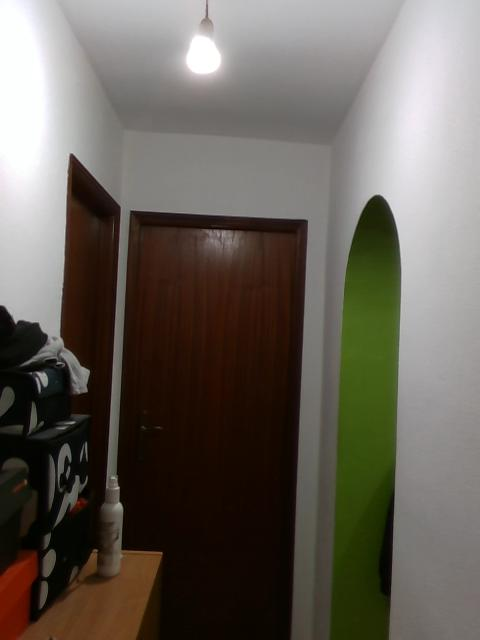door: (132, 223, 297, 628)
